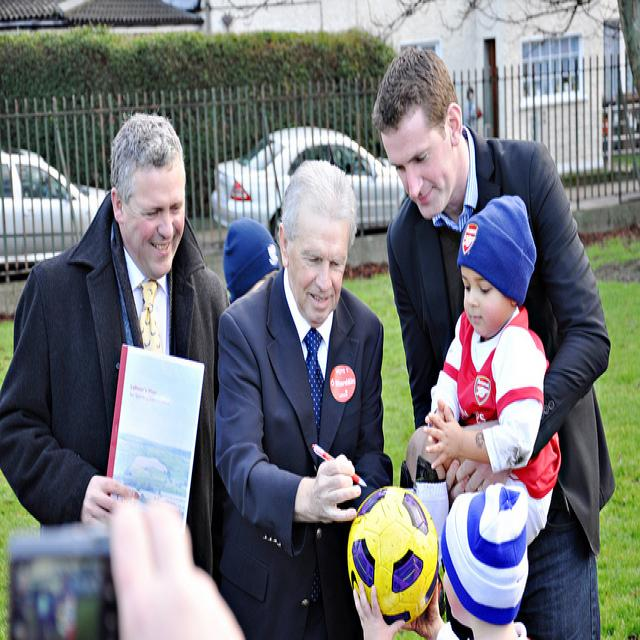Vehicle: (211, 124, 407, 234), (0, 147, 110, 264)
